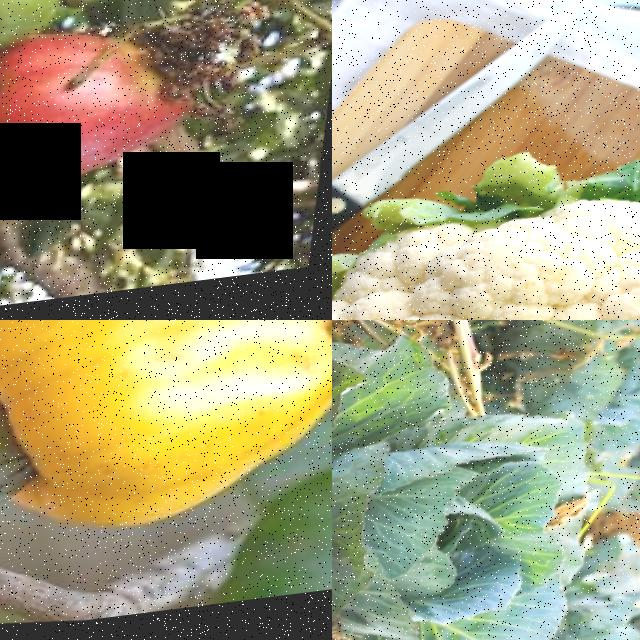cabbage: (332, 385, 604, 640)
cashew: (0, 0, 93, 72)
cauliflower: (332, 76, 640, 320)
